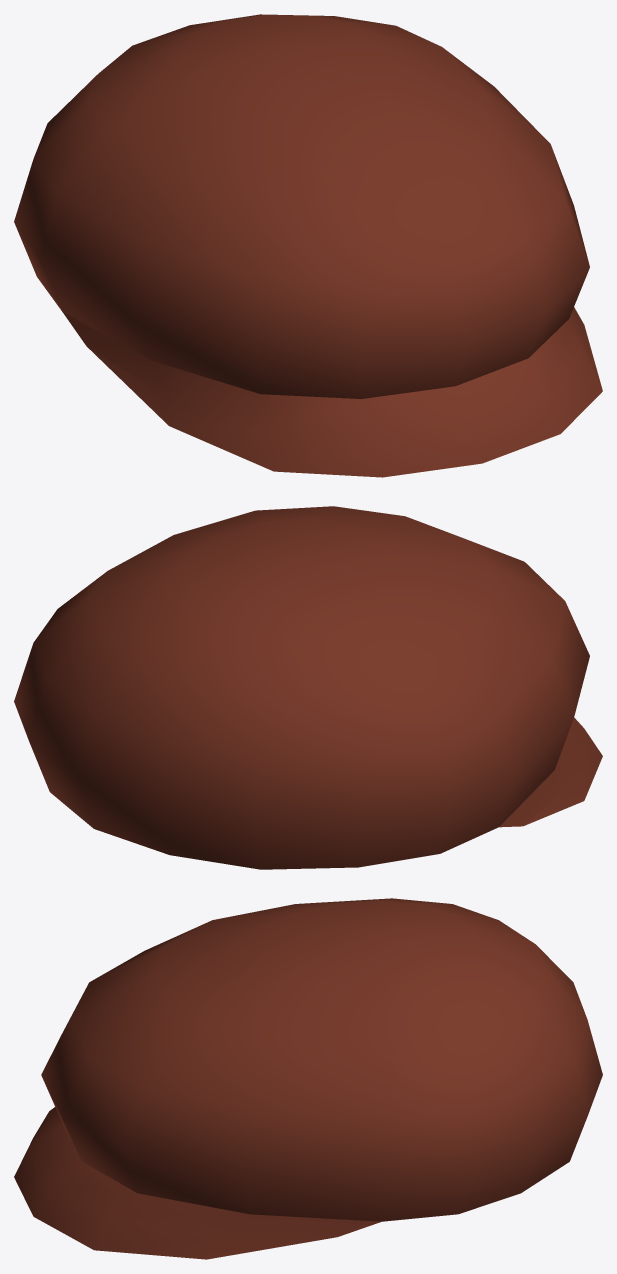
File: farmerCap.glb
3 renders of one model, top to bottom at view 1: azimuth 30°, elevation 25°; view 2: azimuth 150°, elevation 25°; view 3: azimuth 270°, elevation 25°, orthographic. The views are drawn at different scales.
Parts seen in each view (by area): view 1: farmerCap; view 2: farmerCap; view 3: farmerCap.
Boxes of the visible parts, <box> form: farmerCap: <box>14,14,602,477</box>; farmerCap: <box>14,506,602,869</box>; farmerCap: <box>14,898,602,1259</box>.
Size of the model in its own units: 1.06 by 0.5775 by 1.25.
